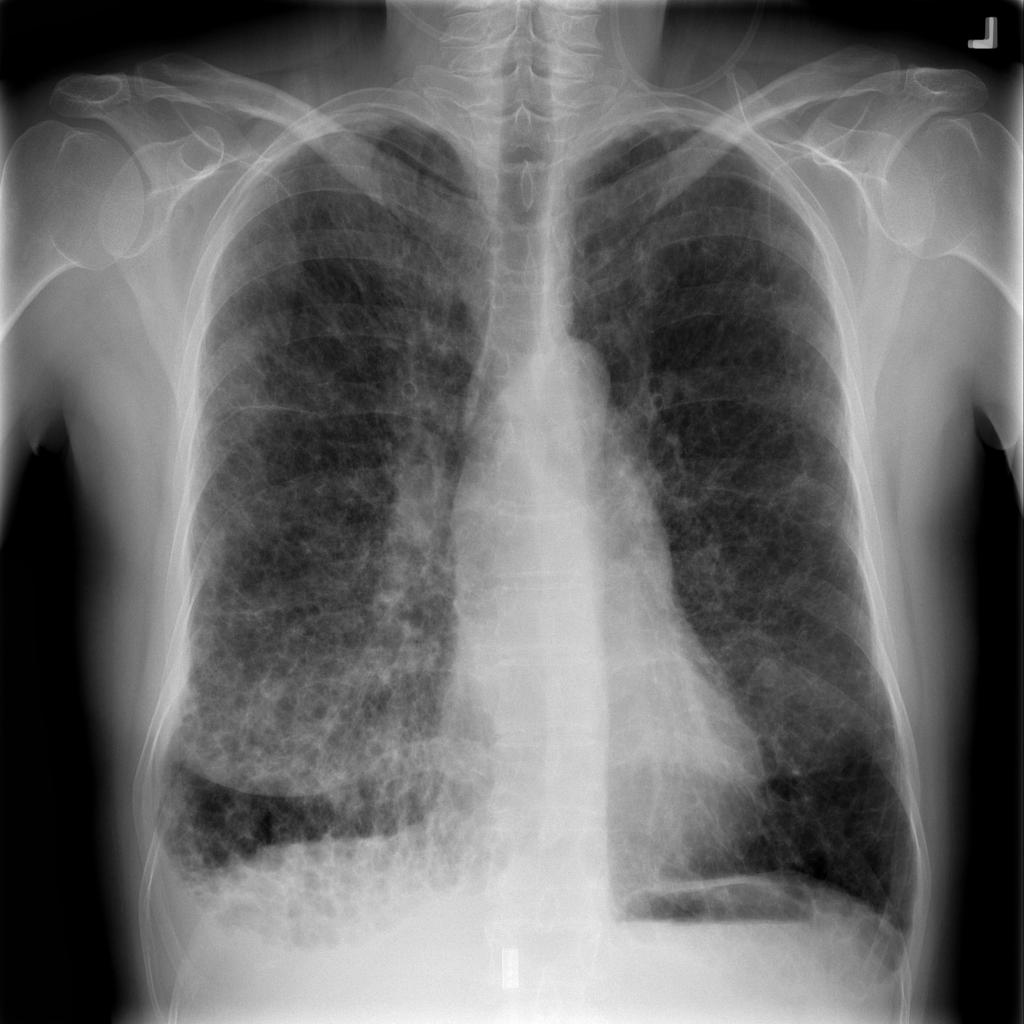nodule: (743, 643, 791, 698)
